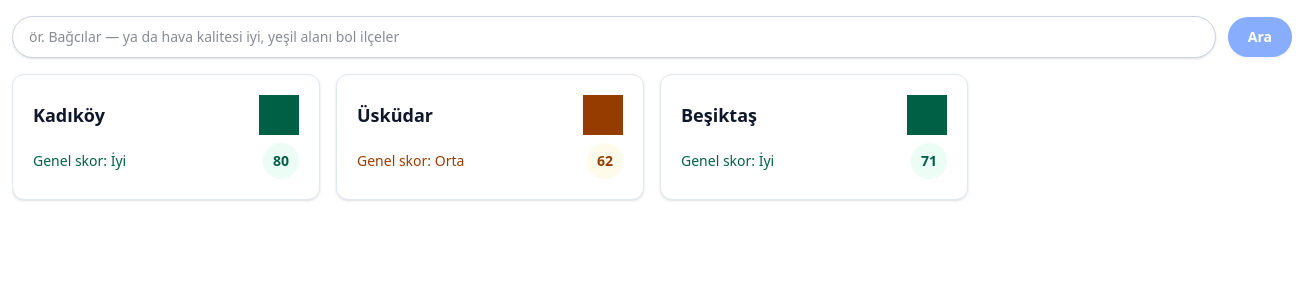
Test case: NeighborhoodSearchableList › narrows the list down to only the real matched ids after a successful search
This screenshot has width=1304, height=306.
Replace the text in the field named "İlçe ara" with "hava kalitesi iyi ilçeler" at x=614, y=37, box [12,16,1216,58]
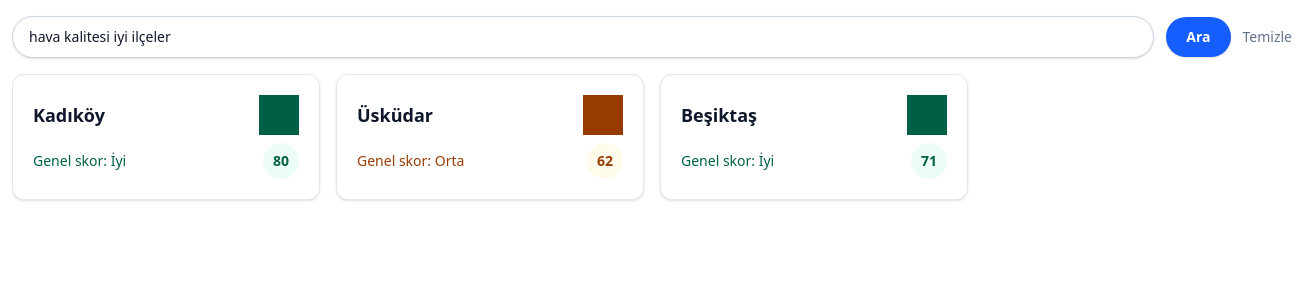
Click the button "Ara" at x=1198, y=37, box [1166,17,1230,57]
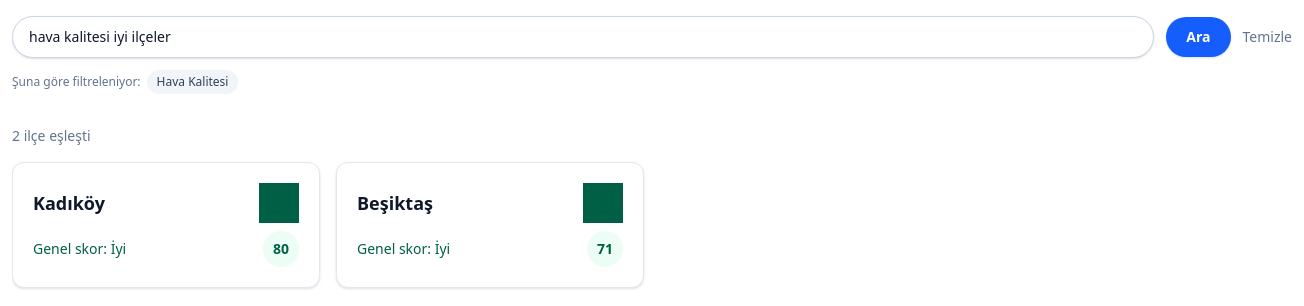
Expected: the text "Kadıköy" is shown, [33,189,105,217]
Now the text "2 ilçe eşleşti" is shown, box [12,126,91,145]
Now the link "Üsküdar" is gone
